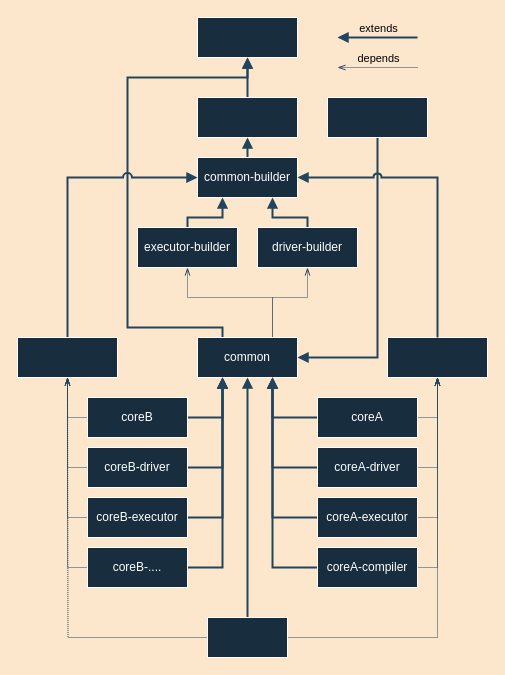
This 505x675 diagram has some shape labels left out. Here are the shapes that lost their labels. From the top down, the centre of each, then its label:
At point 247,37: "base".
At point 247,117: "builder".
At point 377,117: "submitter".
At point 67,357: "coreB-builder".
At point 437,357: "coreA-builder".
At point 247,637: "full".
